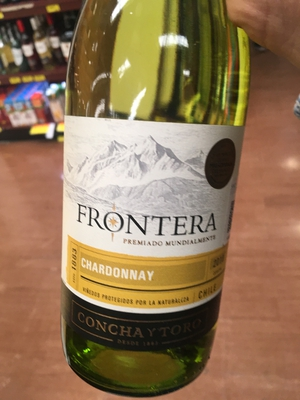frontera chardonnay: (54, 9, 243, 395)
